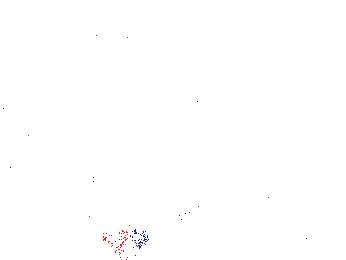flame jellyfish: (103, 200, 191, 254), (22, 75, 66, 141), (84, 169, 136, 221)
